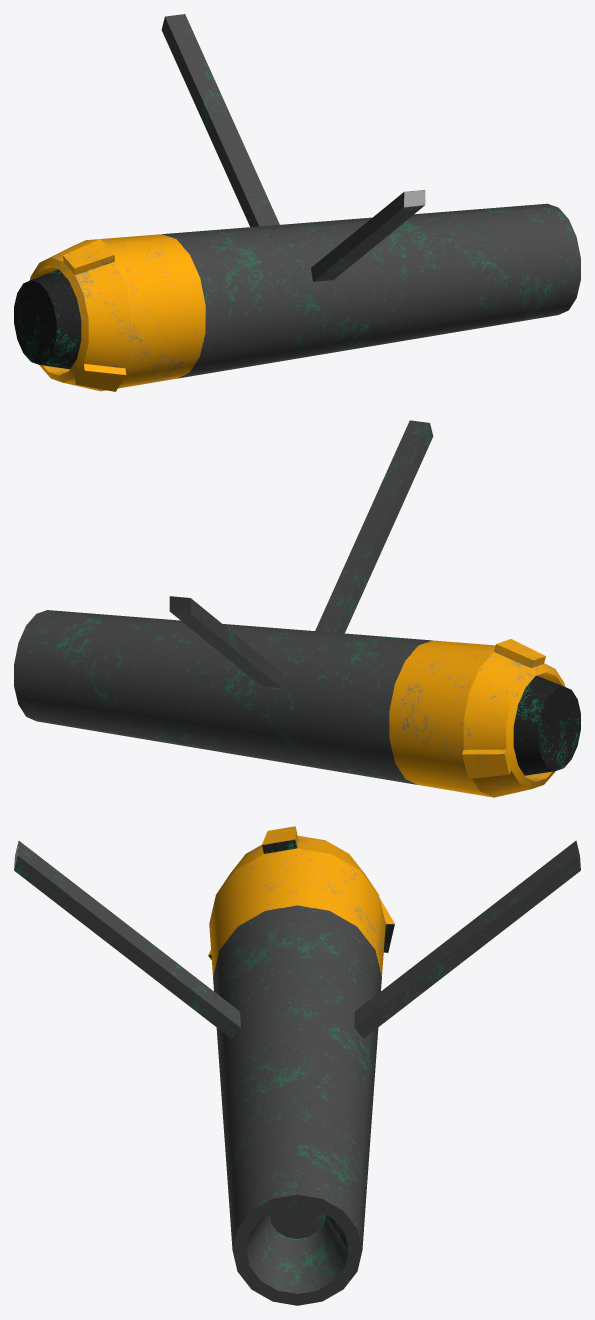
File: AnaRoket.fbx
The picture shows the model from 3 angles, top to bottom: view 1: azimuth 30°, elevation 25°; view 2: azimuth 150°, elevation 25°; view 3: azimuth 270°, elevation 25°; orthographic projection. The views are drawn at different scales.
Visible parts, largest first — view 1: AnaRoket.002; view 2: AnaRoket.002; view 3: AnaRoket.002.
Part boxes in pixels (left/top/right/bottom): AnaRoket.002: left=14, top=14, right=580, bottom=391; AnaRoket.002: left=14, top=420, right=580, bottom=797; AnaRoket.002: left=14, top=826, right=580, bottom=1305.
Size of the model in its own units: 22.17 by 10.88 by 17.7.
